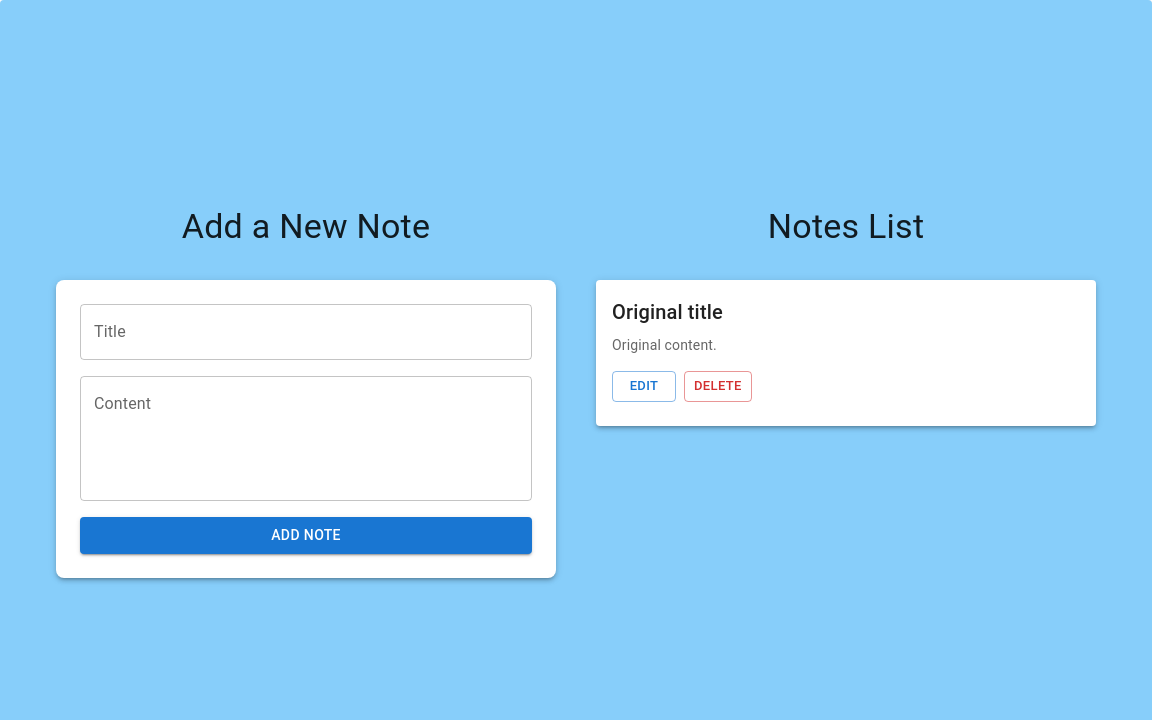
edits an existing note
The image size is (1152, 720).
Click the button "Edit": [644, 387] box [612,371,676,402]
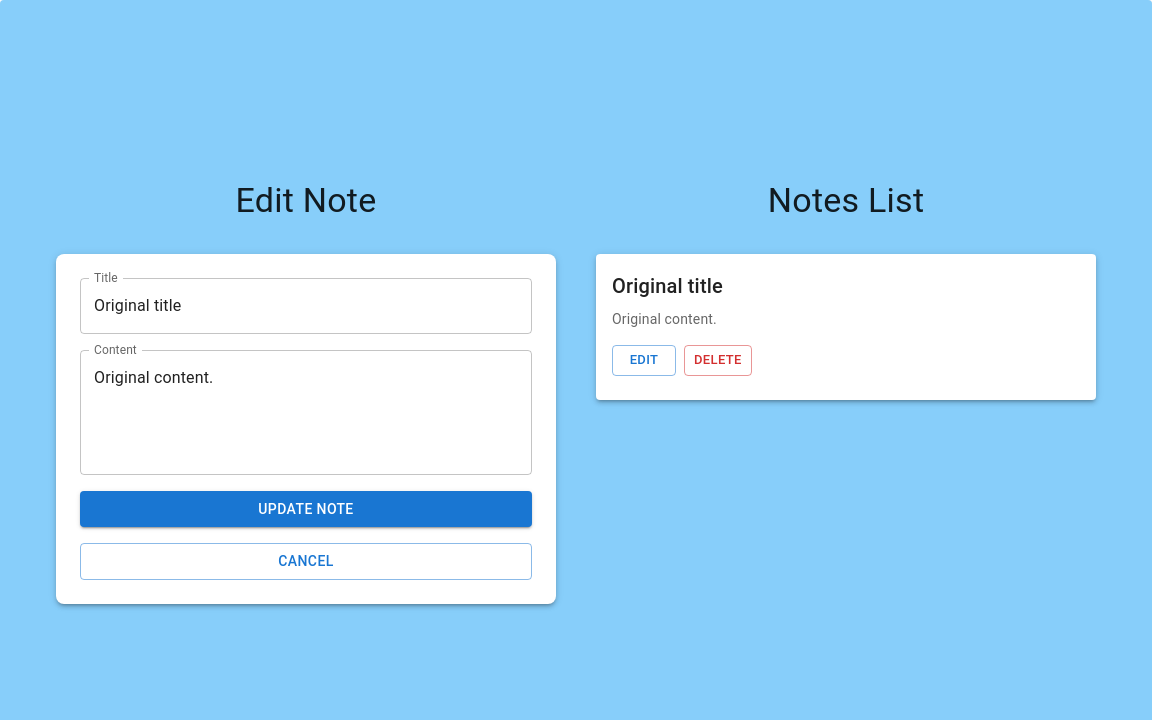
Now the heading "Edit Note" is shown, box [236,180,377,220]
Replace the text in the field labelled "Title" with "Updated title": [306, 306] box [80,278,532,334]
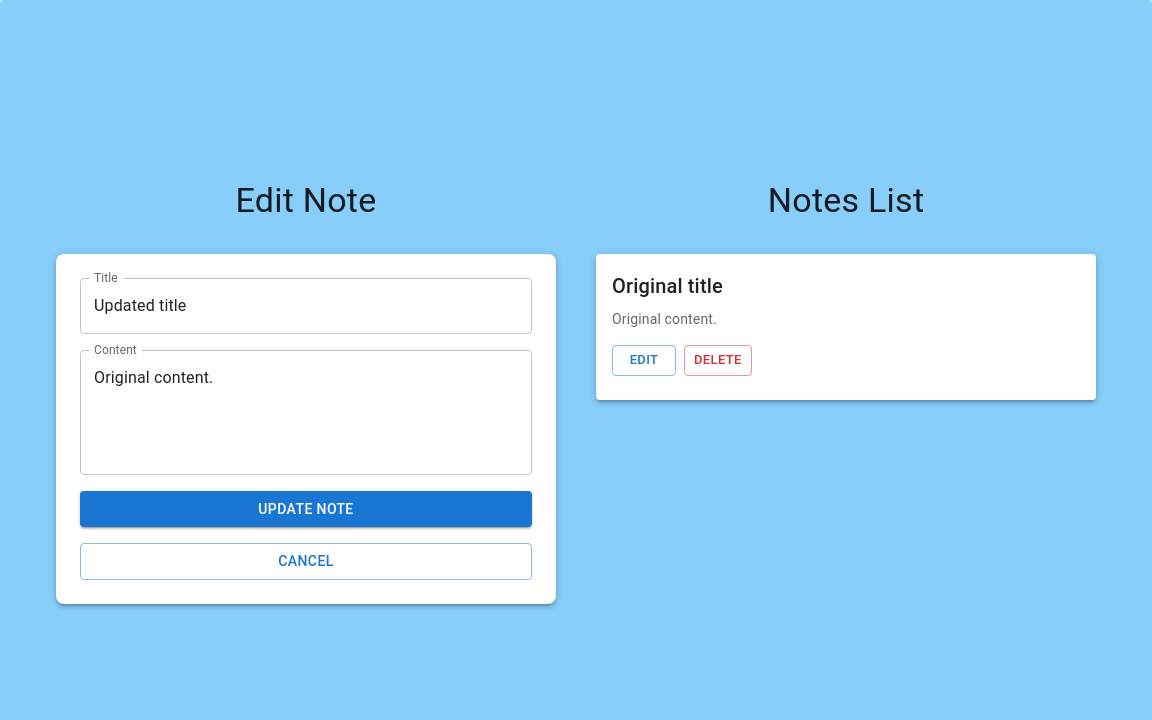
Replace the text in the text box labelled "Content" with "Updated content.": [306, 412] box [94,366,518,458]
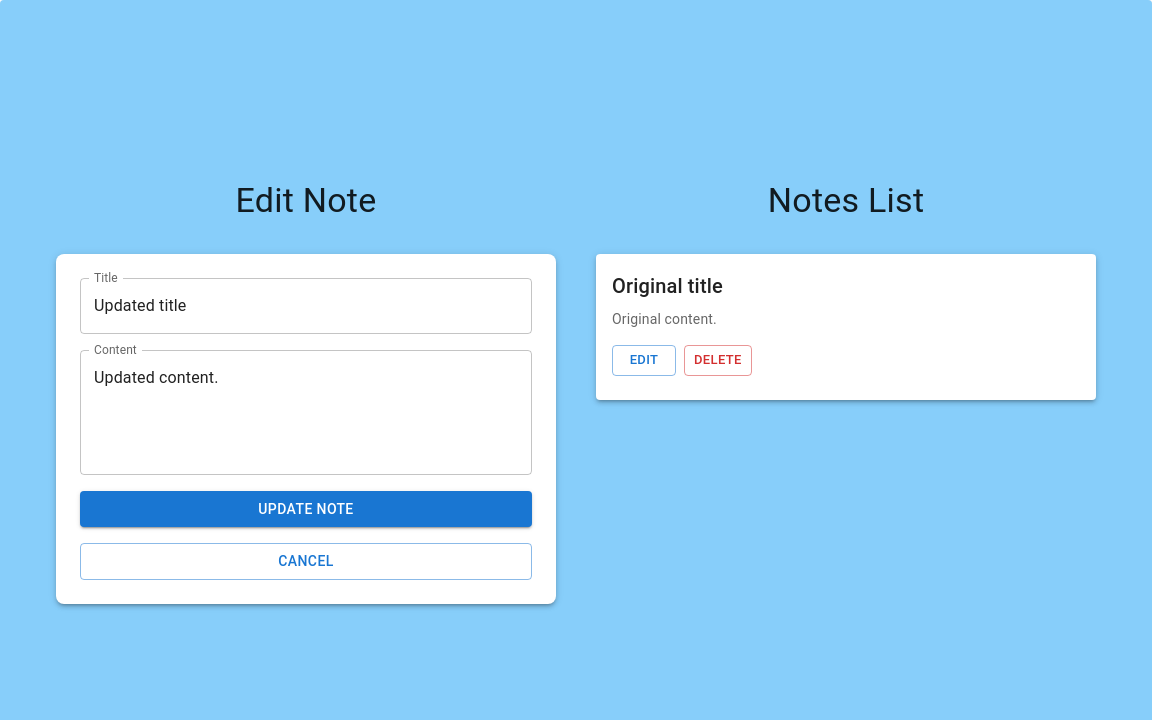
Click the button "Update Note": [306, 509] box [80,491,532,528]
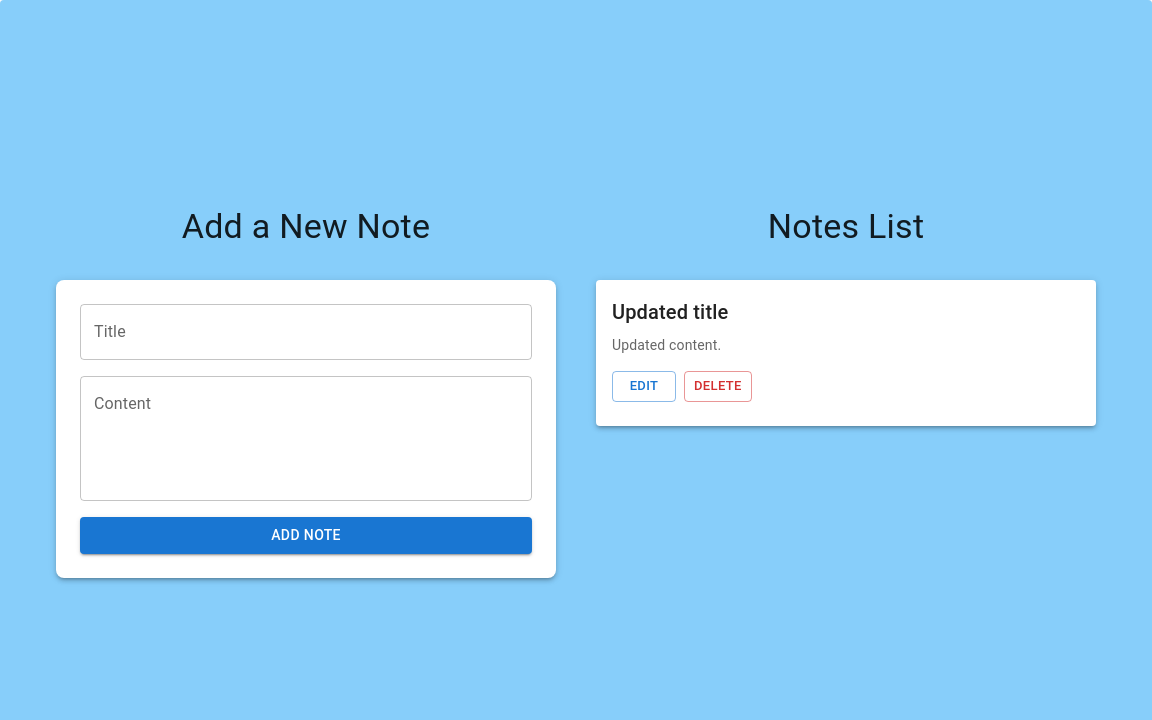
Now the heading "Updated title" is shown, box [612,300,728,324]
Now the text "Updated content." is shown, box [612,337,721,353]
